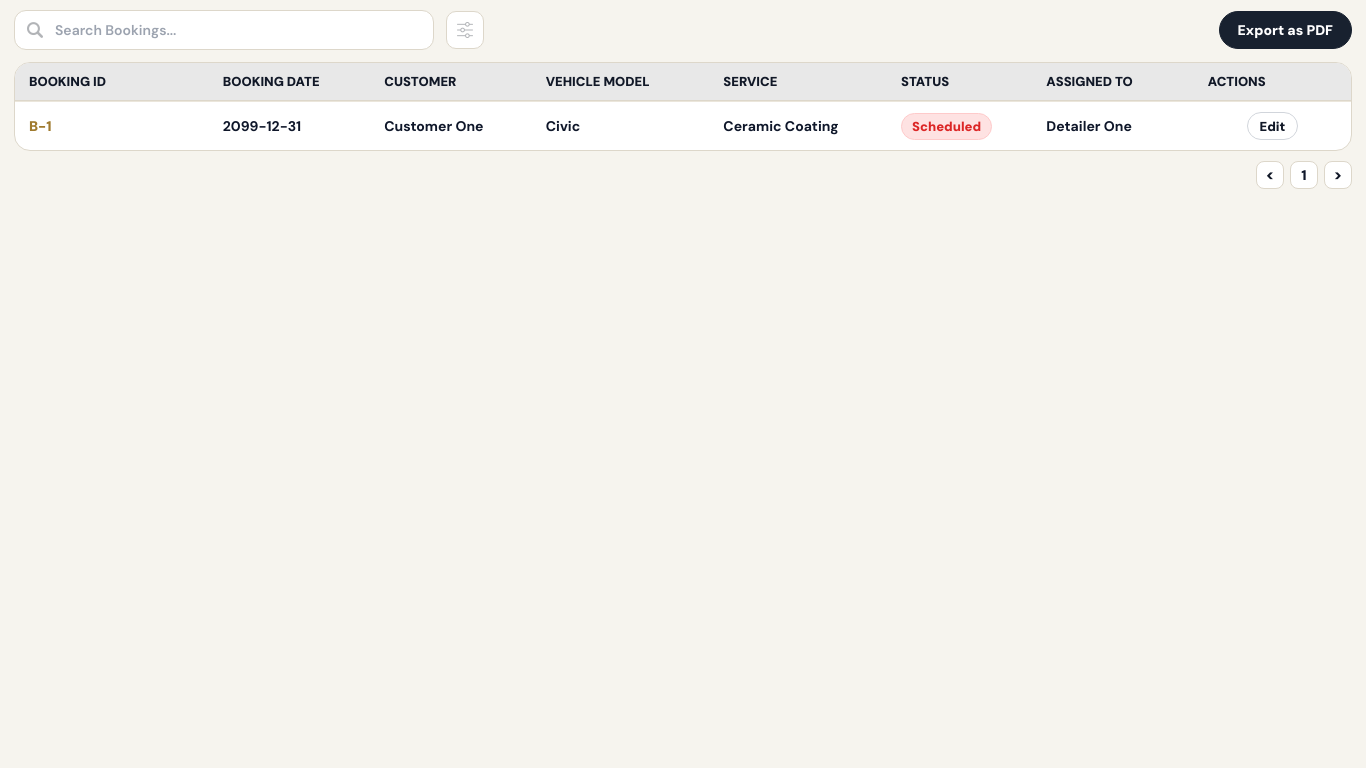
Test: Admin Service Tracking assignment editing › displays current assigned staff in an editable Admin control with eligible options only
Click the button "Edit" at point(1272, 126), box [1246,112,1298,140]
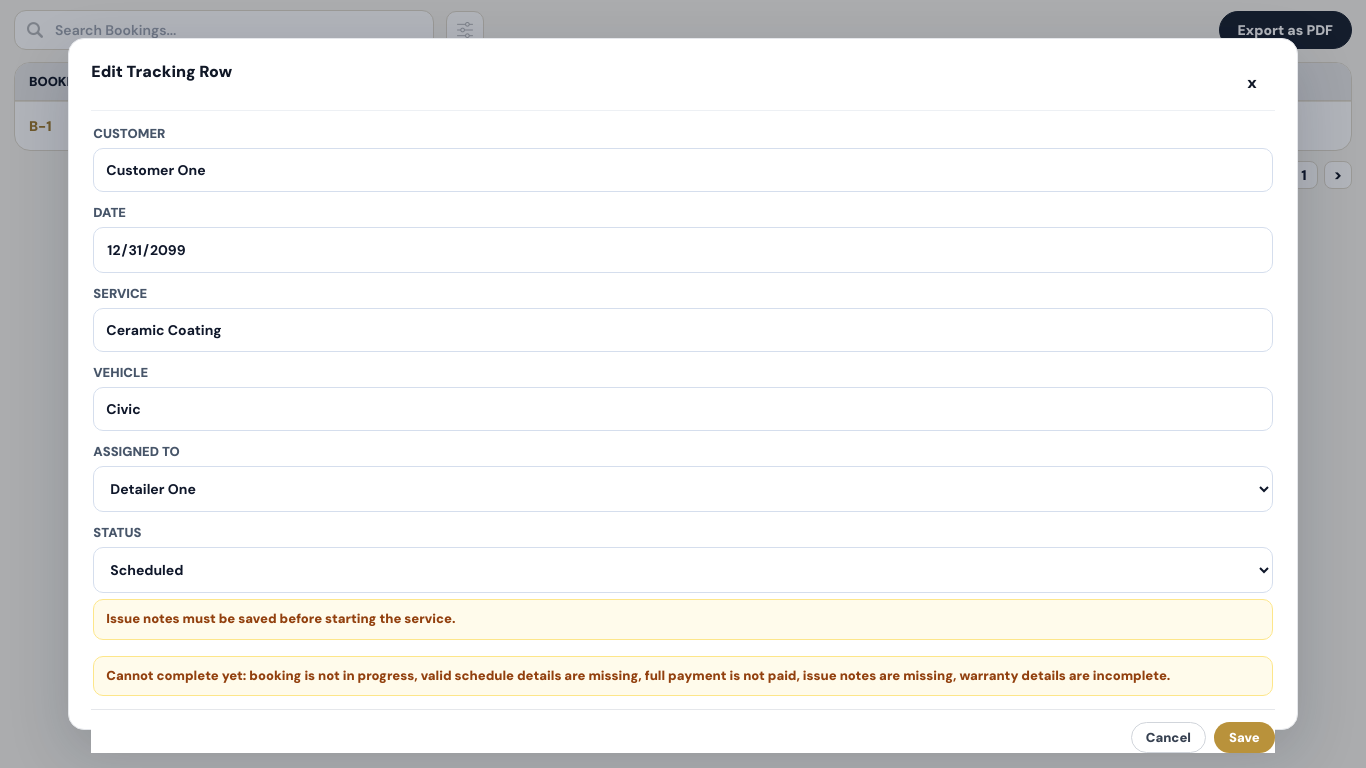
Result: the dropdown labelled "Assigned To" is enabled at [93,466,1273,512]
Result: the dropdown labelled "Assigned To" shows "Detailer One" at [93,466,1273,512]
